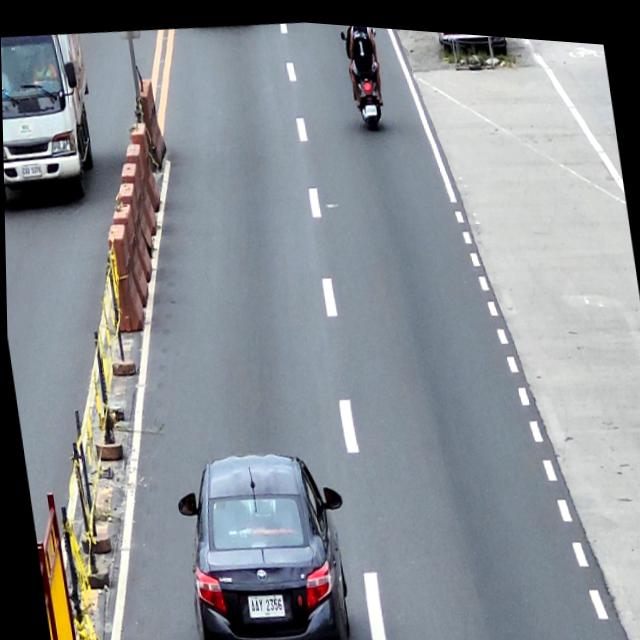Car: (167, 433, 362, 640)
License-Plate: (243, 587, 282, 617), (19, 161, 42, 178), (364, 98, 377, 110)
Motorcycle: (338, 20, 389, 127)
Truck: (0, 27, 105, 215)
